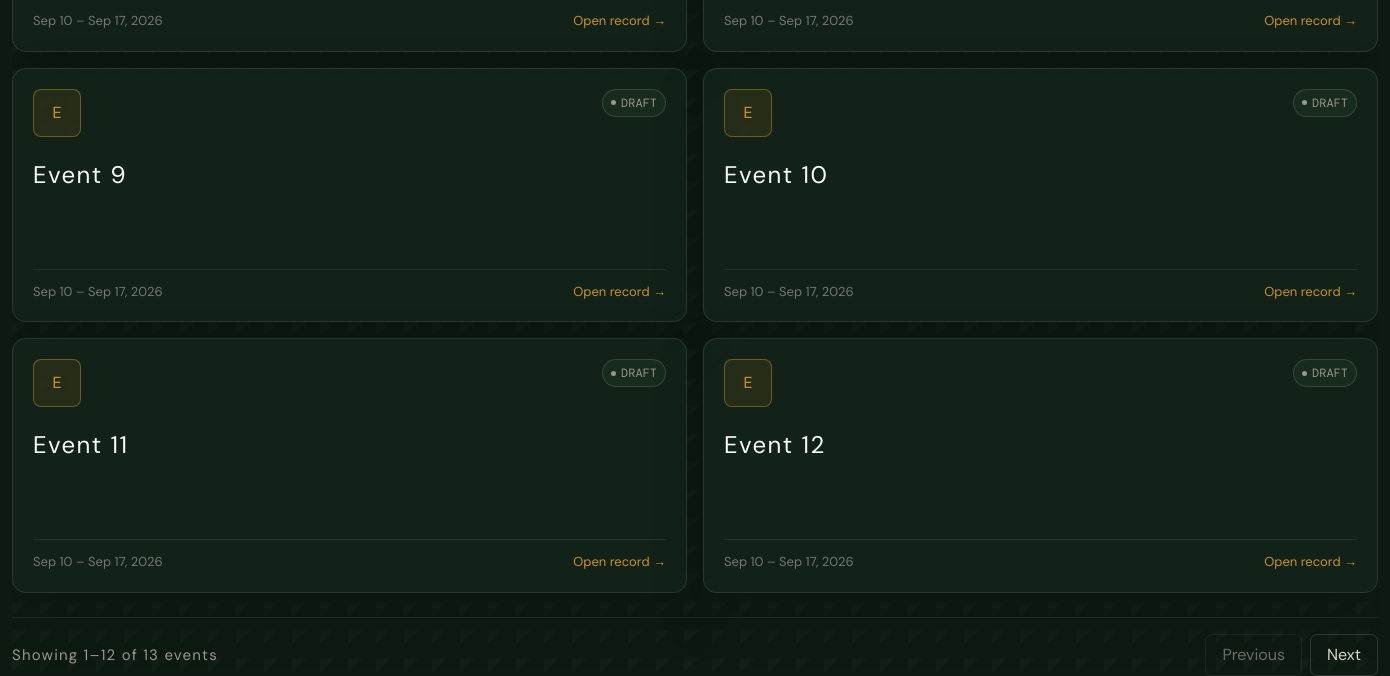
Scenario: paginates event records
(page scrolled)
Expected: the heading "Event 13" is not shown
Click the button "Next".
click(1344, 655)  # box x1=1310 y1=634 x2=1378 y2=675
(page scrolled)
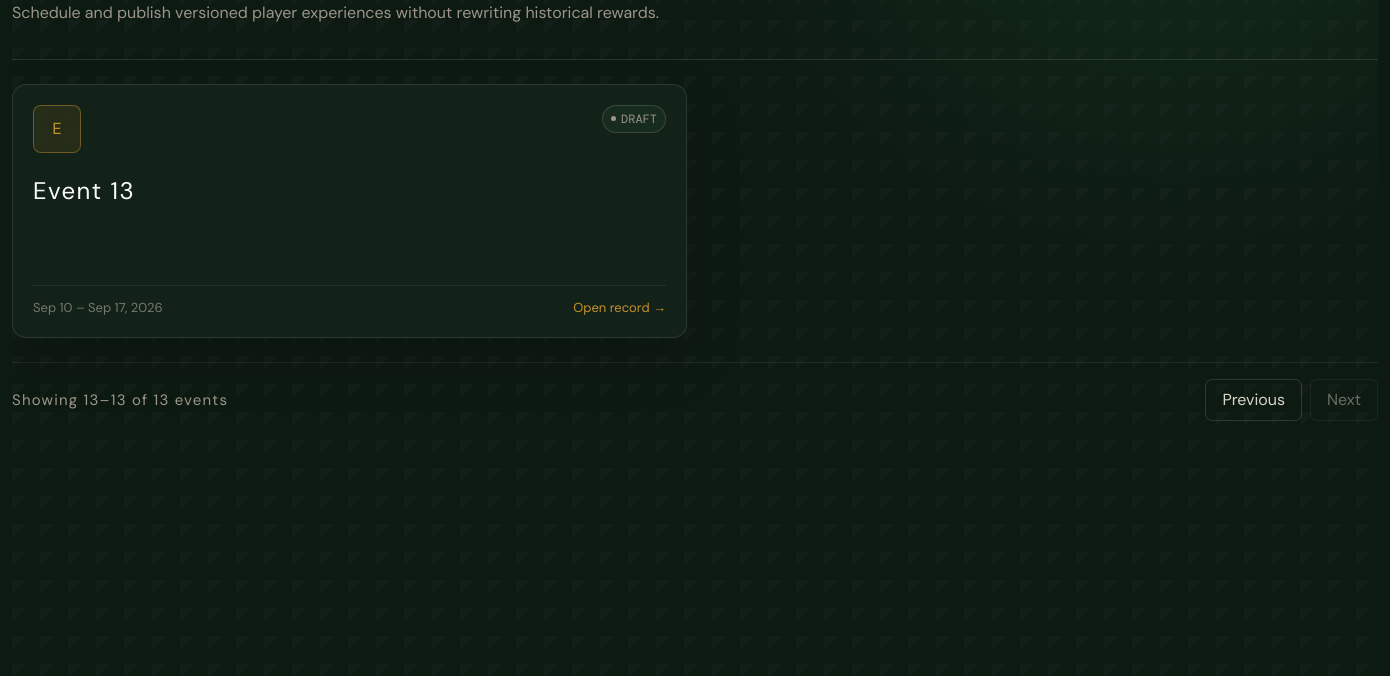
Now the heading "Event 13" is shown, box x1=33 y1=175 x2=135 y2=206
